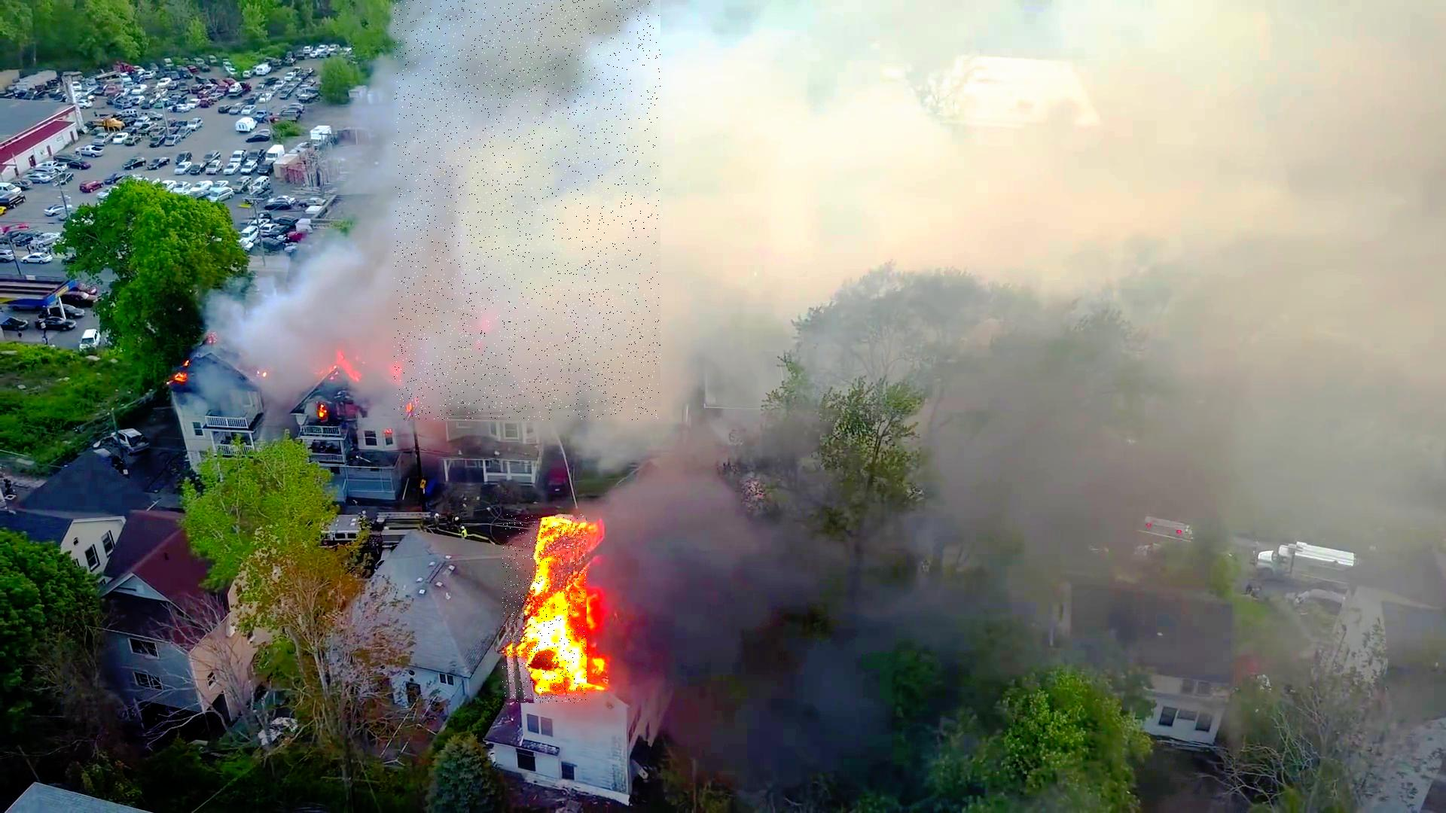fire: (503, 514, 587, 703)
smoke: (394, 0, 661, 420)
